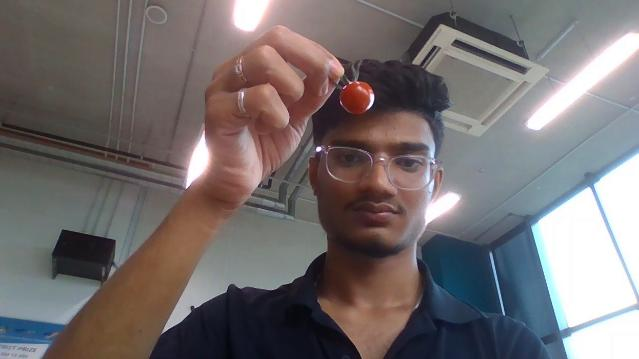Fully Grown: (340, 80, 376, 116)
